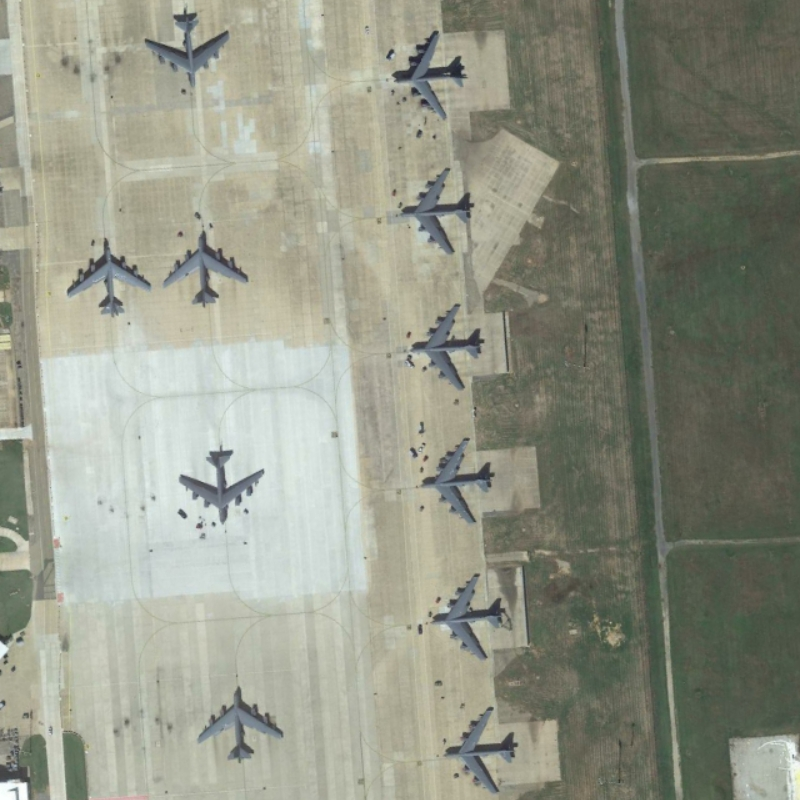A8: (389, 26, 470, 123), (63, 233, 155, 318), (141, 13, 234, 95), (194, 680, 285, 763), (175, 446, 267, 527), (159, 227, 251, 308), (396, 165, 476, 258), (427, 571, 506, 664), (405, 301, 485, 391), (443, 703, 518, 798), (418, 435, 493, 526)
